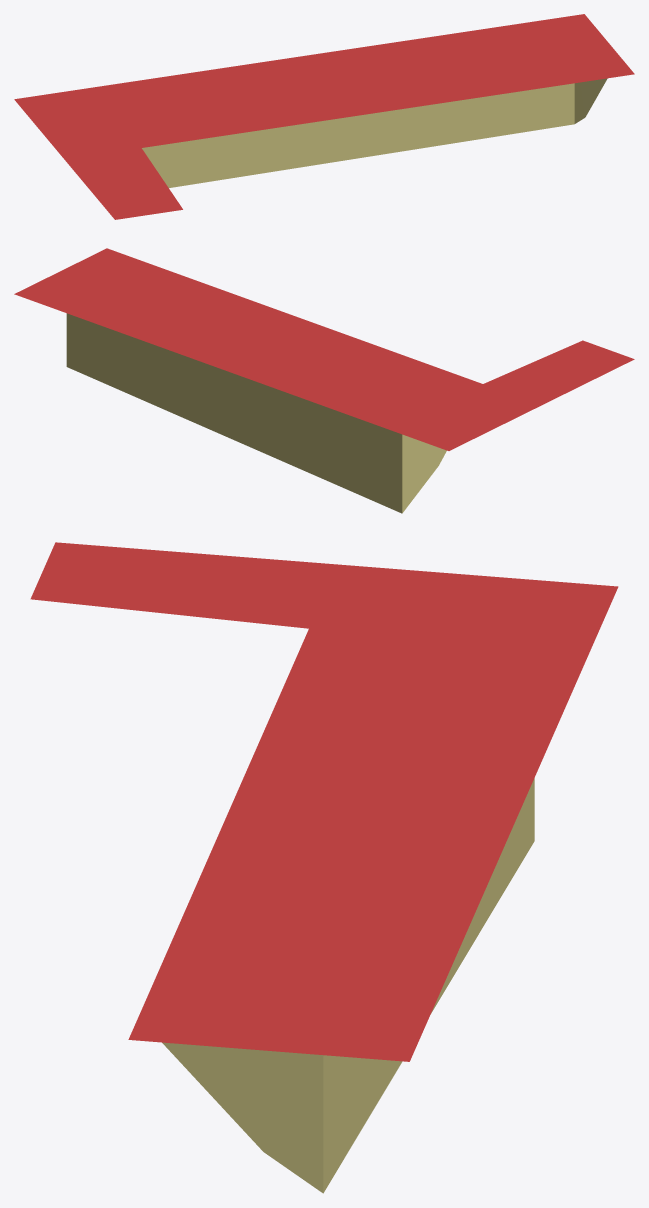
The picture shows the model from 3 angles, top to bottom: view 1: azimuth 30°, elevation 25°; view 2: azimuth 150°, elevation 25°; view 3: azimuth 270°, elevation 25°; orthographic projection. The views are drawn at different scales.
Bounding box in the file's own units: 11.27 × 5.39 × 1.91.
